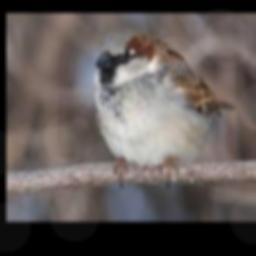Sparrow: (94, 29, 238, 188)
